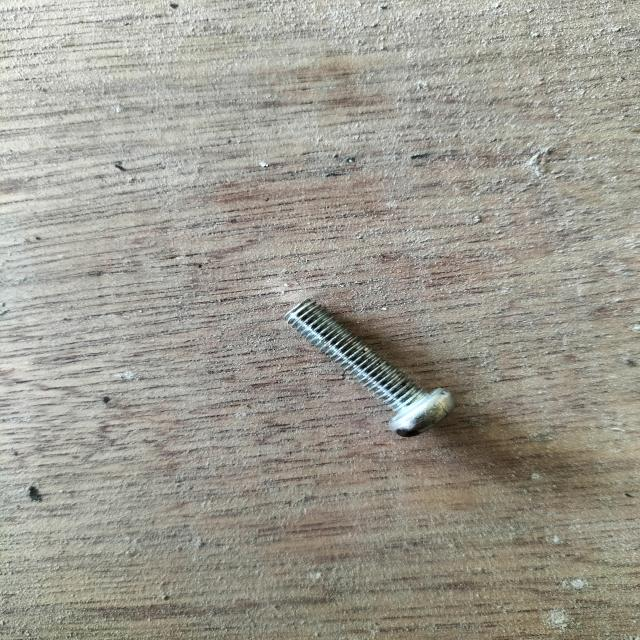bolt: (282, 297, 458, 437)
